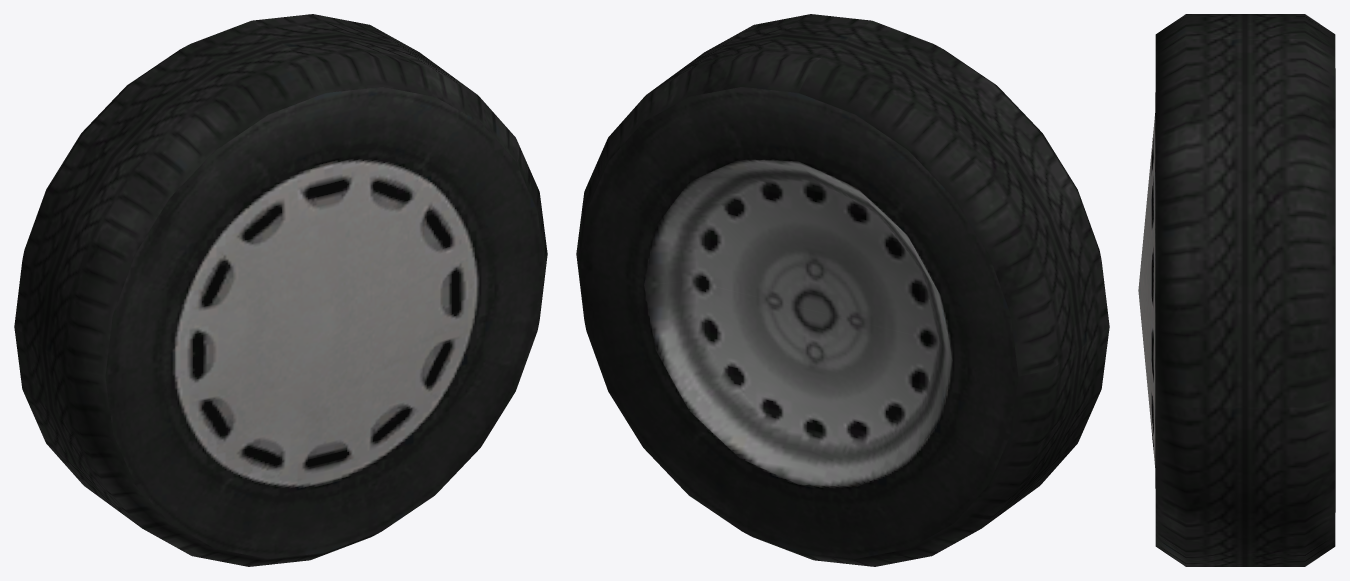
File: V_A_2DrCoupe_Wheels_1_SkeletalMesh3_PartMesh.psk.glb
3 renders of one model, left to right at view 1: azimuth 30°, elevation 25°; view 2: azimuth 150°, elevation 25°; view 3: azimuth 270°, elevation 25°, orthographic.
Bounding box in the file's own units: 68.94 × 68.94 × 24.5.
1 material, 1 textured.
